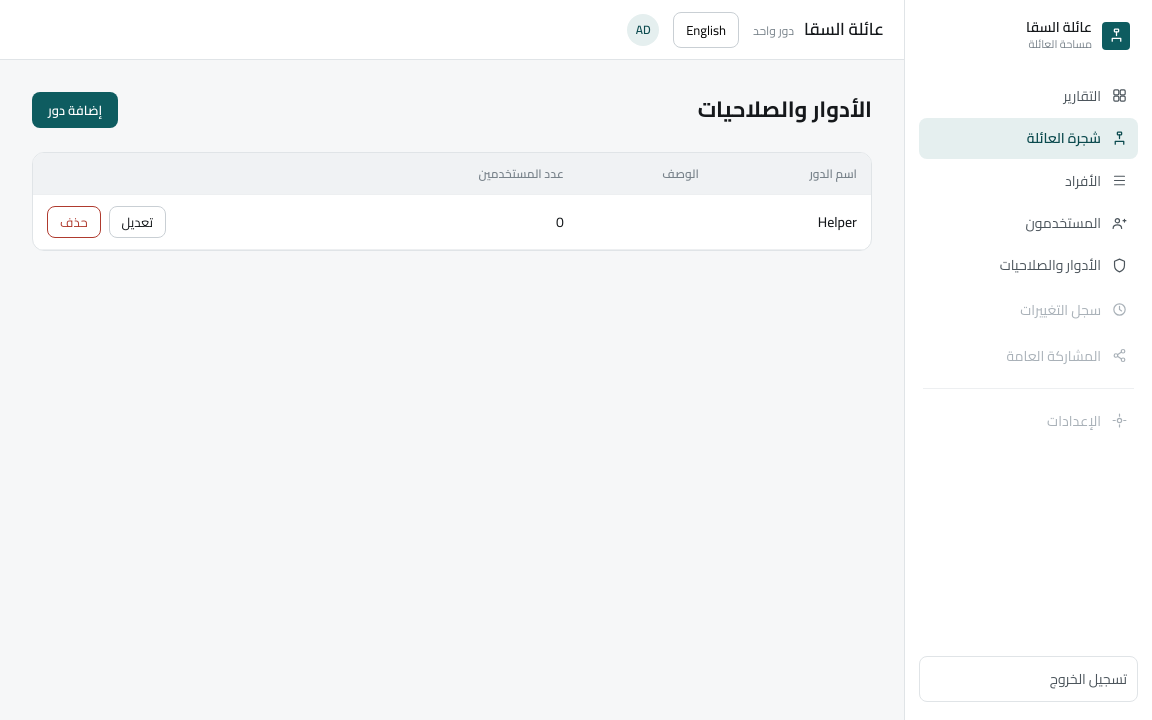
RolesPage › shows a translated refusal when deletion is rejected
This screenshot has width=1152, height=720.
Expected: the text "Helper" is shown, x1=713 y1=195 x2=871 y2=250
Click the button "حذف".
click(74, 222)  # box x1=47 y1=206 x2=101 y2=238
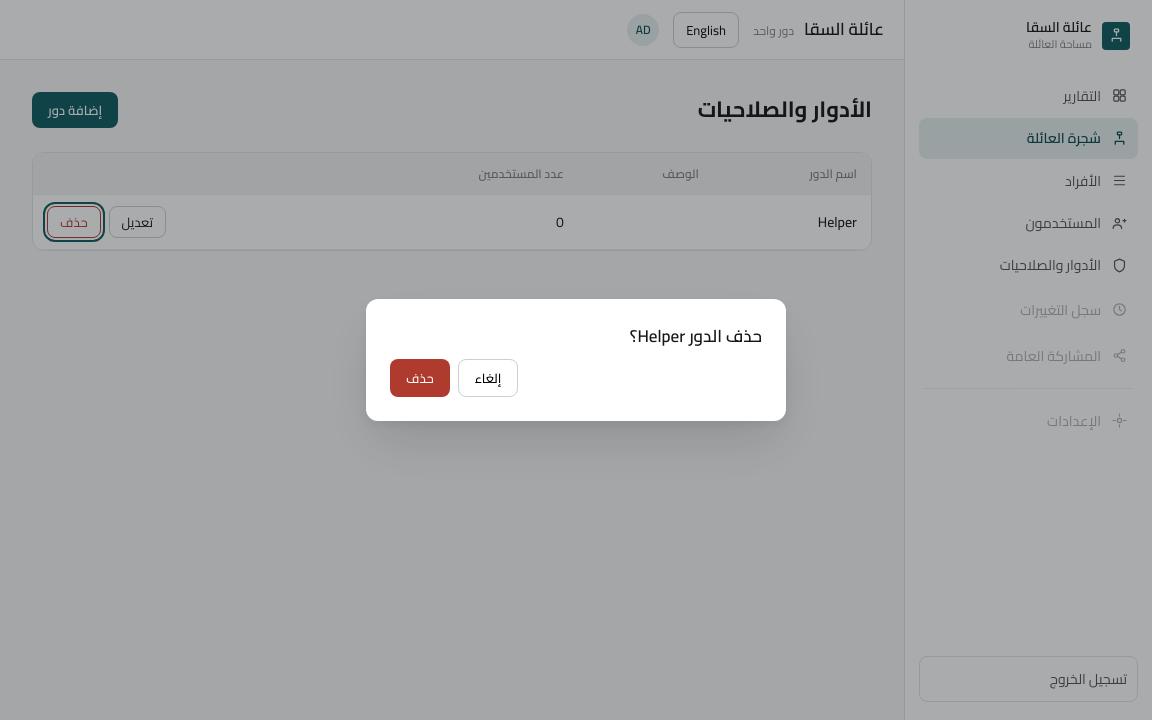
Click the button "حذف".
click(420, 378)  # box x1=390 y1=359 x2=450 y2=397
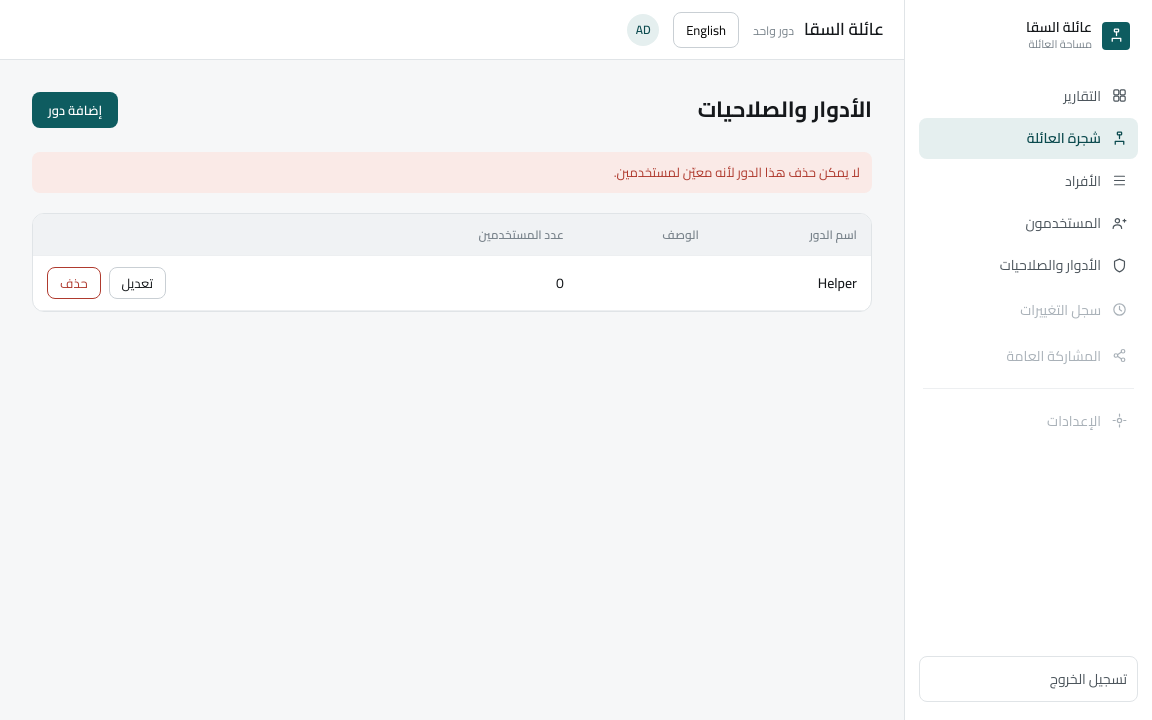
Now the text "لا يمكن حذف هذا الدور لأنه معيّن لمستخدمين." is shown, box x1=32 y1=152 x2=872 y2=193
